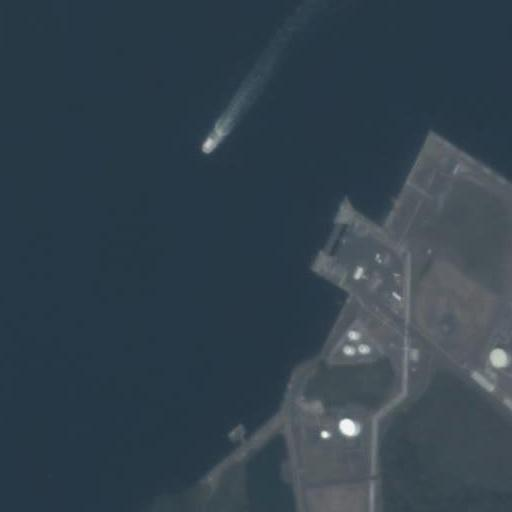person: (202, 136, 217, 155)
